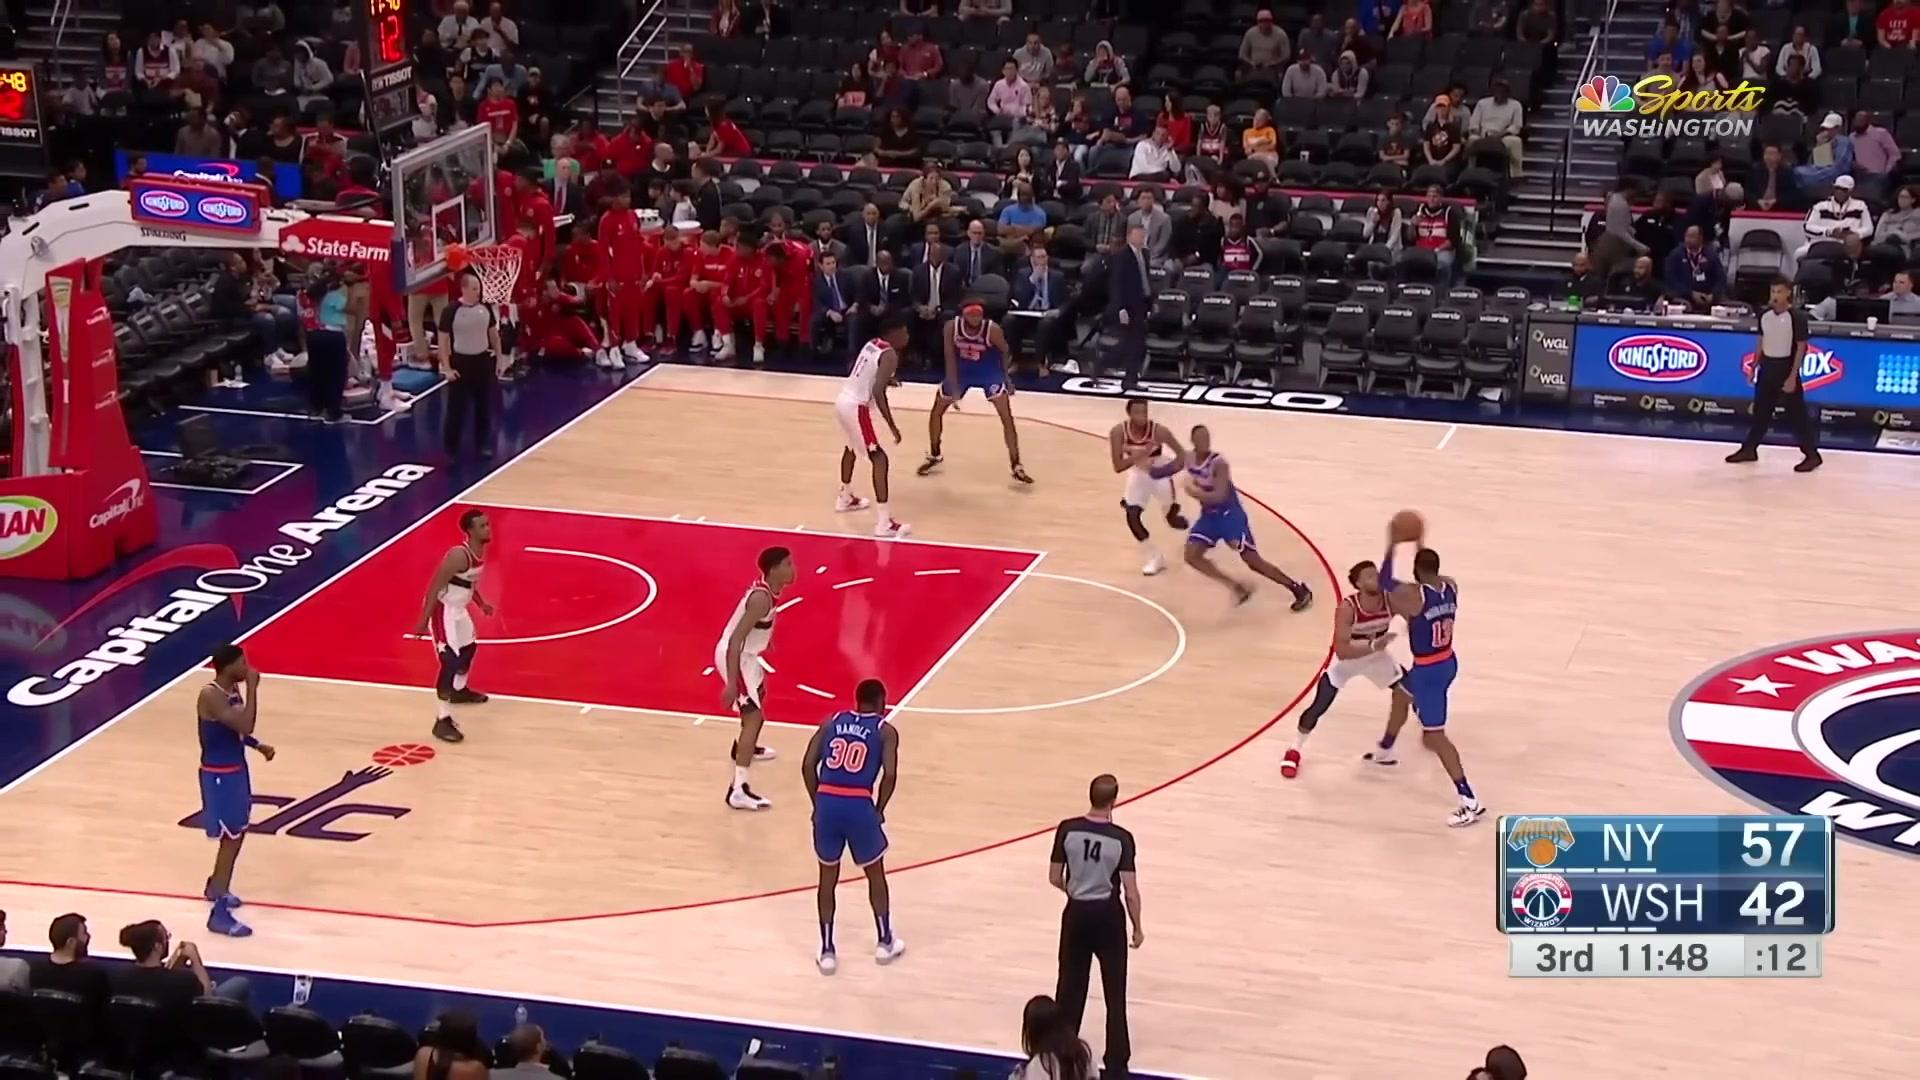foul: (1267, 506, 1482, 833)
